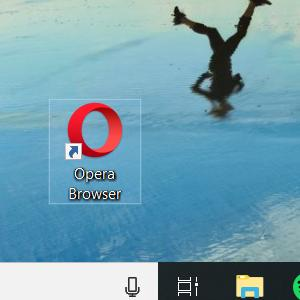opera: (65, 103, 123, 160)
